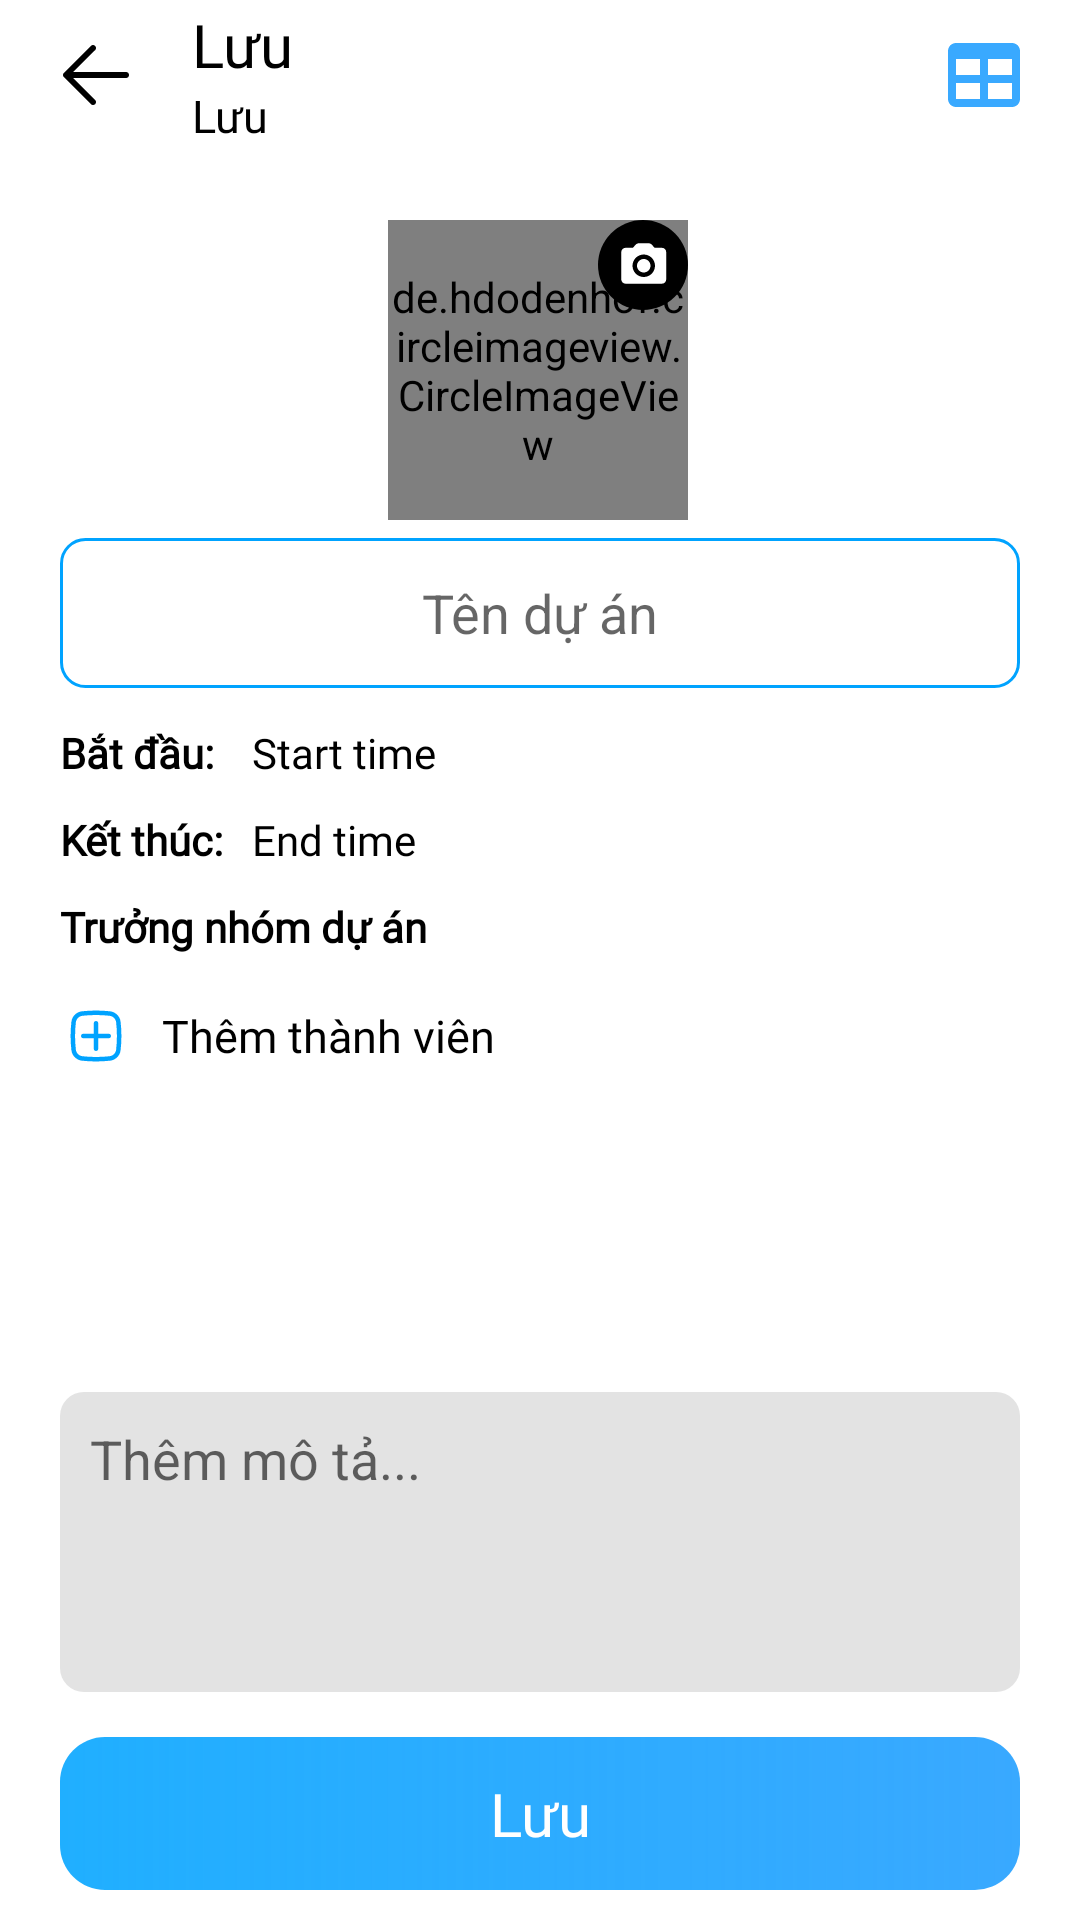

Where to tap for icons on this 1080 x 1920 app screen, as (x=x, y=y):
arrow back: (x=96, y=75)
camera: (x=643, y=265)
grid: (x=984, y=75)
